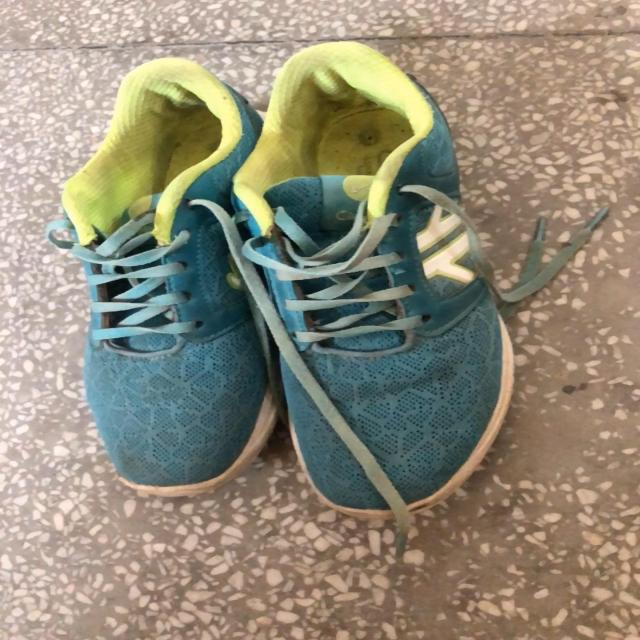shoe: (223, 42, 515, 519), (73, 69, 258, 502)
